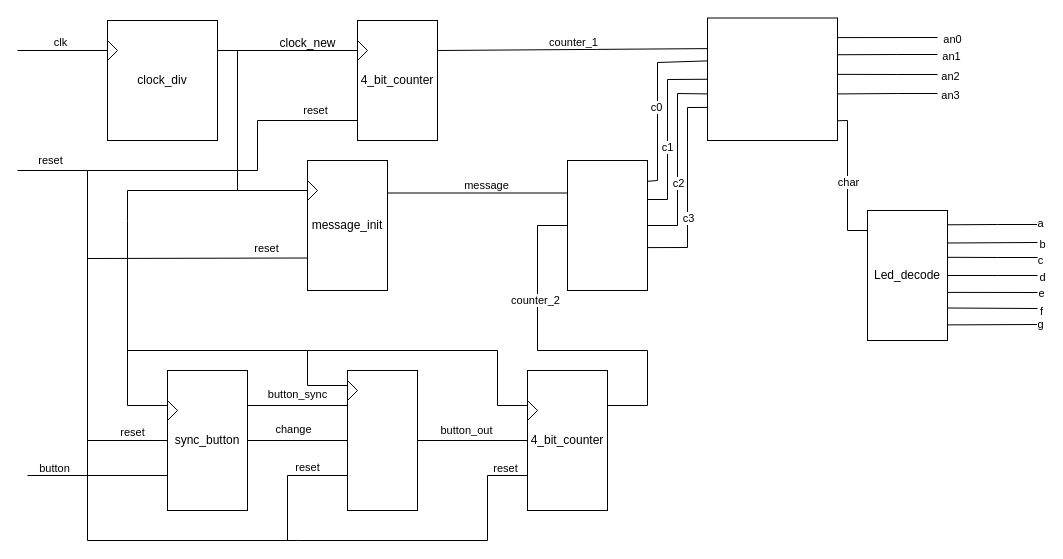
Some shapes in this 1063 by 559 pixel diagram are drawn without their labels. The centre of each missing label's shape, as x and y in pixels:
"Anode_driver" belongs at pixel 772 78.
"debounce" belongs at pixel 382 440.
"Text_scroll" belongs at pixel 607 225.
